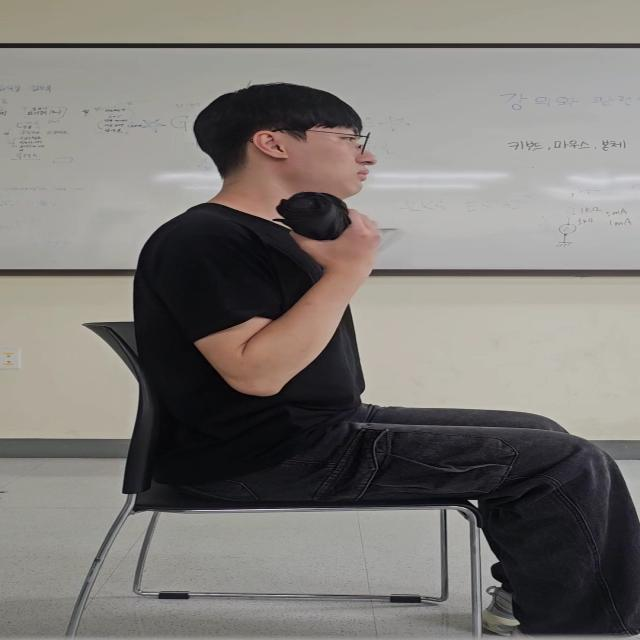curl: (142, 200, 412, 400)
